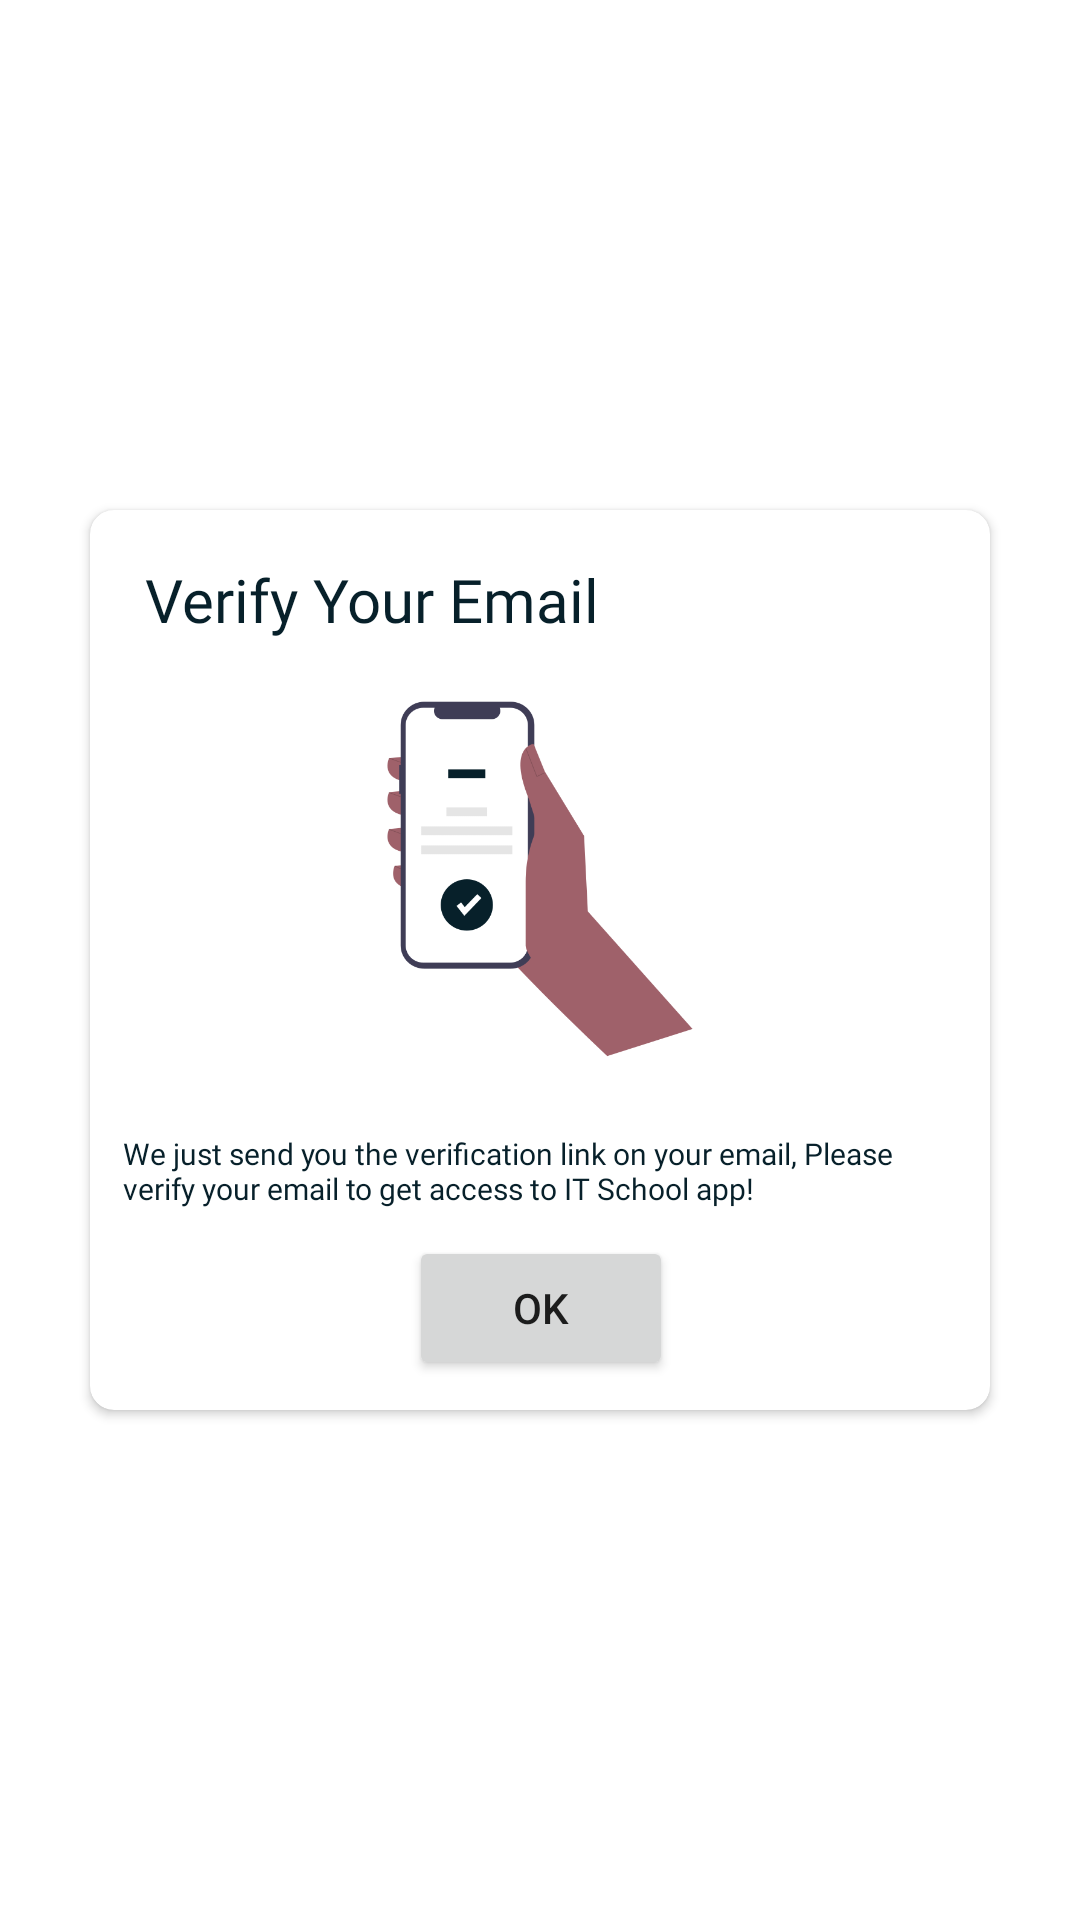

Named icons in this screenshot (1080x1920) and their bounding boxes, [x1, y1, x2, y2]:
confirmed: [387, 701, 693, 1056]
